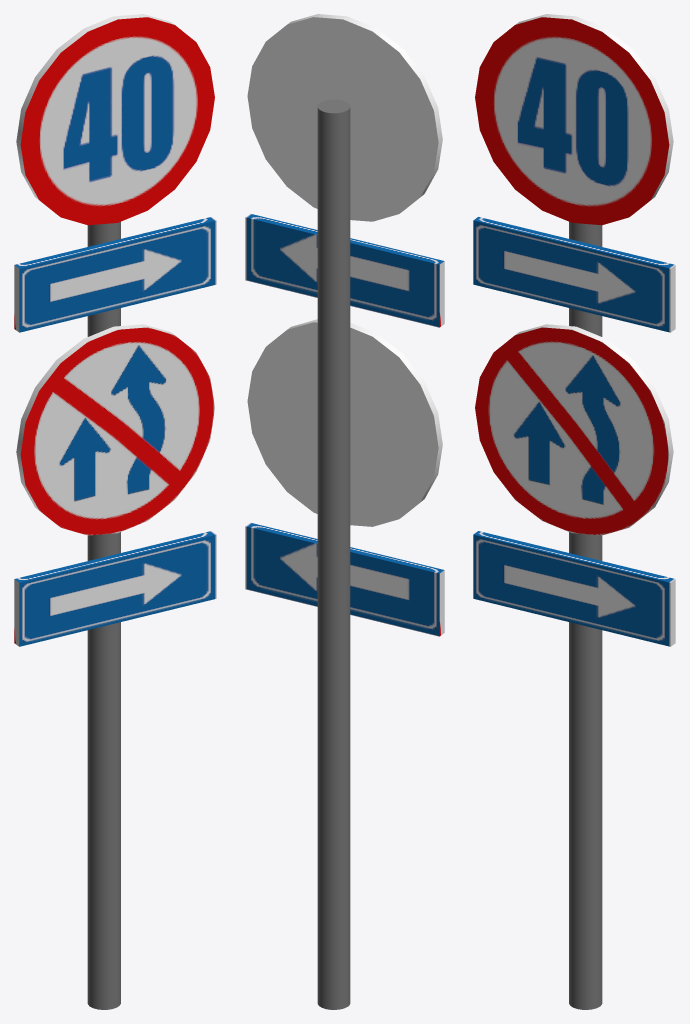
The model's file is sign00.obj.
3 renders of one model, left to right at view 1: azimuth 30°, elevation 25°; view 2: azimuth 150°, elevation 25°; view 3: azimuth 330°, elevation 25°, orthographic.
Parts seen in each view (by area): view 1: pCylinder3, pCylinder2, pCylinder1, pCube2, pCube1; view 2: pCylinder1, pCylinder2, pCylinder3, pCube2, pCube1; view 3: pCylinder3, pCylinder2, pCylinder1, pCube2, pCube1.
Boxes of the visible parts, left/top/right/bottom form: pCylinder3: left=16, top=324, right=214, bottom=535; pCylinder2: left=16, top=14, right=214, bottom=225; pCylinder1: left=87, top=221, right=120, bottom=1009; pCube2: left=14, top=531, right=216, bottom=646; pCube1: left=14, top=217, right=216, bottom=332; pCylinder1: left=317, top=99, right=350, bottom=1009; pCylinder2: left=247, top=14, right=442, bottom=221; pCylinder3: left=247, top=319, right=442, bottom=526; pCube2: left=245, top=522, right=444, bottom=636; pCube1: left=245, top=213, right=444, bottom=327; pCylinder3: left=475, top=324, right=673, bottom=535; pCylinder2: left=475, top=14, right=673, bottom=225; pCylinder1: left=569, top=221, right=602, bottom=1009; pCube2: left=473, top=531, right=675, bottom=646; pCube1: left=473, top=217, right=675, bottom=332.
Size of the model in its own units: 1.36 by 6.54 by 0.2645.
2 materials, 1 textured.
